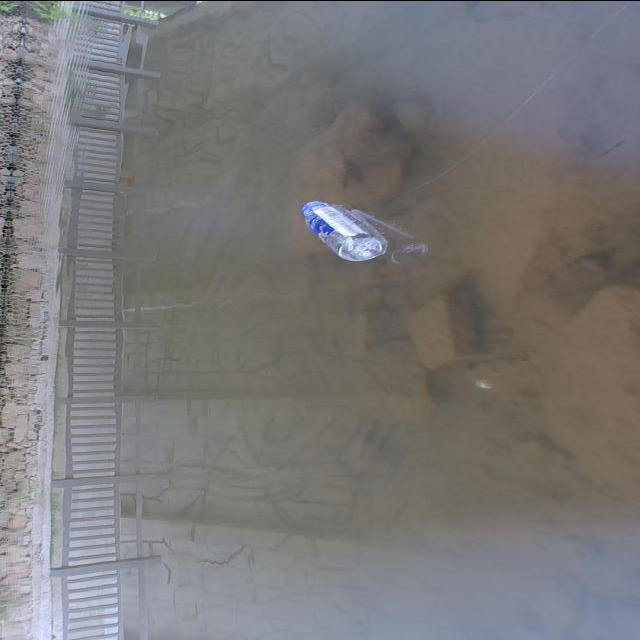Bottle: (296, 188, 396, 270)
